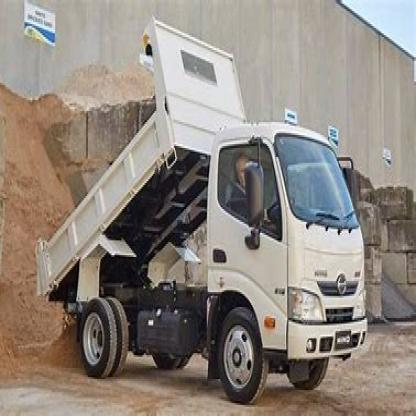dump_truck: (26, 11, 376, 405)
